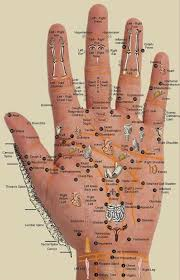palm: (48, 117, 172, 250)
